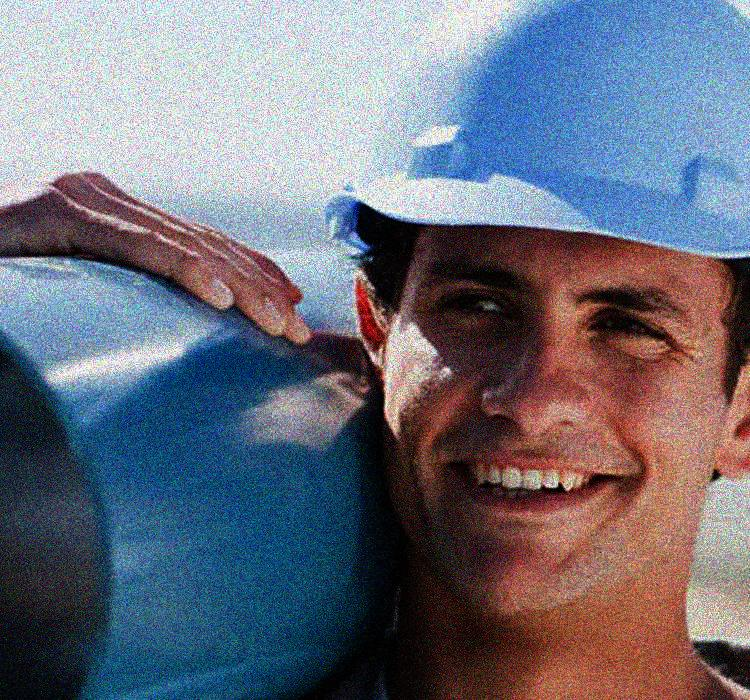helmet: (316, 3, 750, 616)
